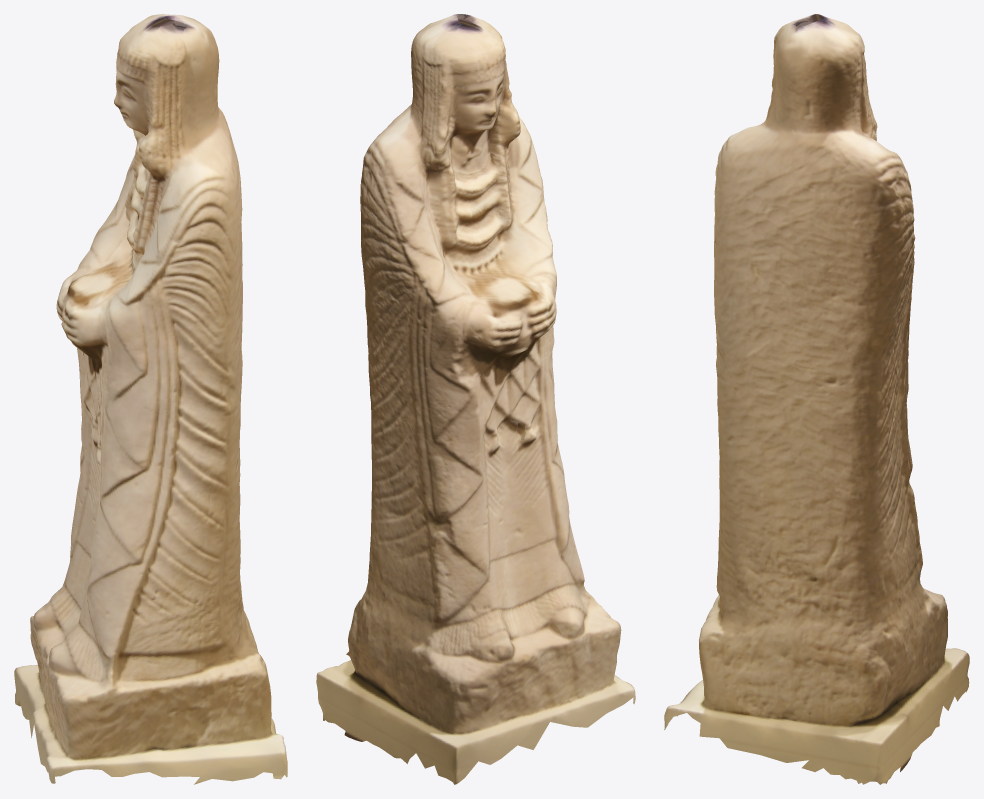
The picture shows the model from 3 angles, left to right: view 1: azimuth 30°, elevation 25°; view 2: azimuth 150°, elevation 25°; view 3: azimuth 270°, elevation 25°; orthographic projection. The views are drawn at different scales.
Visible parts, largest first — view 1: Object_2; view 2: Object_2; view 3: Object_2.
Part boxes in pixels (<box>): Object_2: <box>14,14,287,784</box>; Object_2: <box>316,14,635,784</box>; Object_2: <box>664,14,969,784</box>.
Bounding box in the file's own units: 12.02 × 31.39 × 12.15.
1 material, 1 textured.
